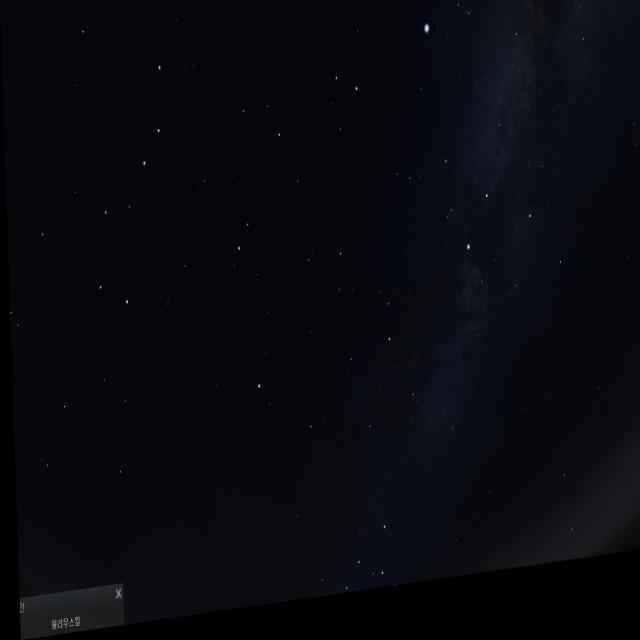cassiopeia: (314, 516, 388, 606)
cygnus: (421, 56, 540, 284)
lyra: (419, 11, 478, 76)
ursa_major: (80, 55, 185, 313)
